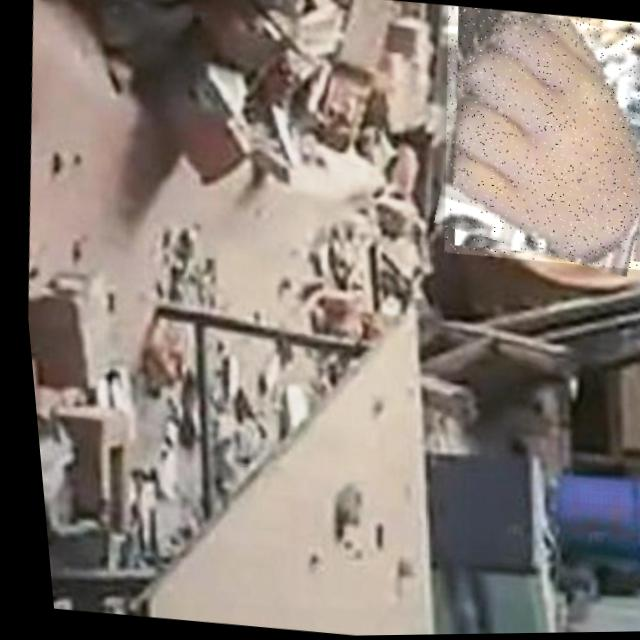Person in Rubble: (421, 4, 640, 275)
